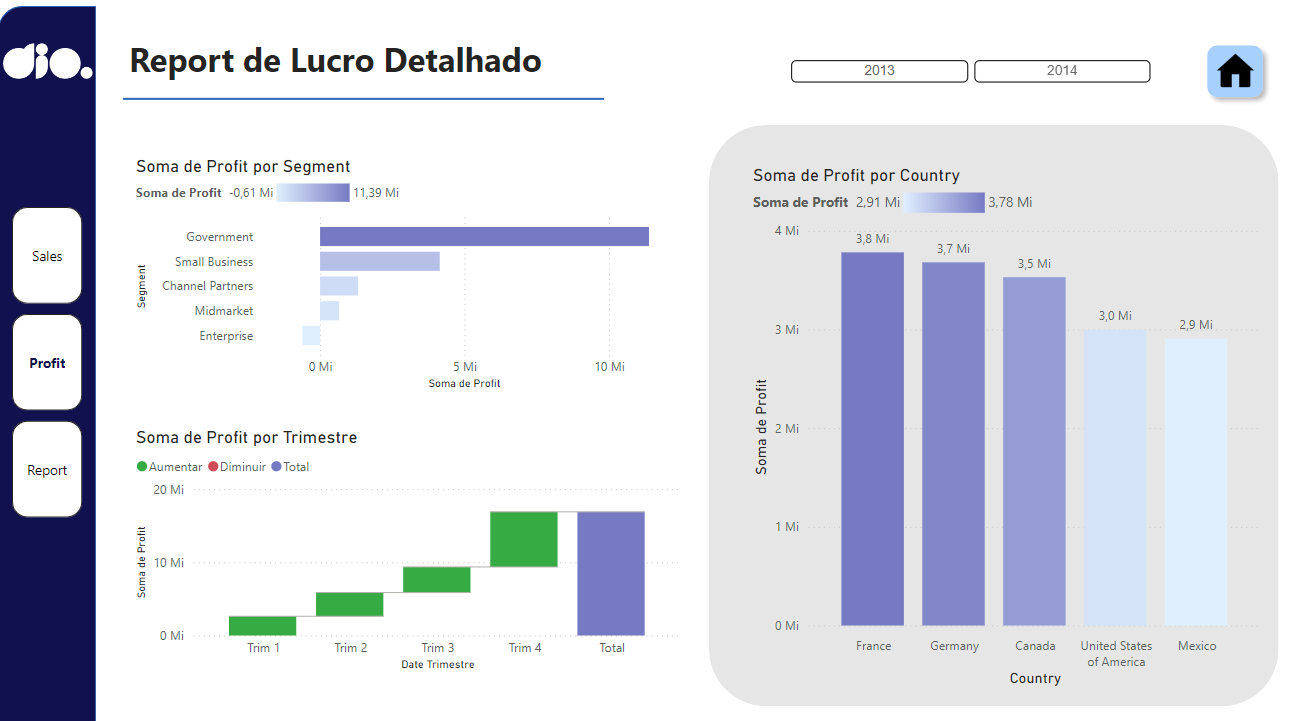

This screenshot's page, from the dashboard's own definition file:
{"tool":"powerbi","page":{"name":"Profit","canvas":[1280,720],"ordinal":1},"visuals":[{"type":"shape","box":[0,13.4,96.4,706.2],"z":0,"group":"g3"},{"type":"actionButton","title":"Home Page","box":[1178.5,43.4,72.7,69.2],"z":0,"group":"g2"},{"type":"shape","box":[123.3,79.5,472.6,50.8],"z":0,"group":"g1"},{"type":"shape","box":[726,141.5,533.4,571.7],"z":500},{"type":"image","title":"logo_dio","box":[0,35.7,98.2,63.2],"z":1000,"group":"g3"},{"type":"textbox","box":[124.7,38.1,469.9,71.5],"z":1000,"group":"g1"},{"type":"textbox","box":[1182.9,58.2,63,42.6],"z":1000,"group":"g2"},{"type":"decompositionTreeVisual","fields":{"Analyze":["Sum(financials.Profit)"],"ExplainBy":["financials.Date.Variation.Hierarquia de datas.Ano","financials.Country"]},"box":[736.8,169.9,509.8,516.7],"z":1000},{"type":"waterfallChart","fields":{"Category":["financials.Date.Variation.Hierarquia de datas.Trimestre"],"Y":["Sum(financials.Profit)"]},"box":[124.8,442.1,546.2,244.6],"z":2000},{"type":"ChicletSlicer1448559807354","fields":{"Category":["financials.Date.Variation.Hierarquia de datas.Ano"]},"box":[174.9,141.5,368.4,40.3],"z":3000},{"type":"treemap","fields":{"Values":["Sum(financials.Profit)"],"Group":["financials.Segment"]},"box":[237.7,192.5,243.6,233.8],"z":4000},{"type":"group","id":"g1","title":"Sales report","box":[123.3,38.1,472.6,92.2],"z":5000},{"type":"actionButton","box":[15.9,622.4,54,96.9],"z":6000},{"type":"group","id":"g2","title":"Botão home","box":[1178.5,43.4,72.7,69.2],"z":7000},{"type":"group","id":"g3","title":"Layout","box":[0,13.4,98.2,706.2],"z":8000},{"type":"image","box":[1188.3,49.7,54.1,55],"z":9000},{"type":"pageNavigator","box":[13.4,211.1,69.9,306.2],"z":10000}]}

Visuals, with their boxes in screenshot pixels (x1, y1, x2, y2), scaled from the page's 1280x720 canvas onto the 1301x721 screenshot:
shape: bbox=(0, 13, 98, 720)
"Home Page" actionButton: bbox=(1198, 43, 1272, 113)
shape: bbox=(125, 80, 606, 130)
shape: bbox=(738, 142, 1280, 714)
"logo_dio" image: bbox=(0, 36, 100, 99)
textbox: bbox=(127, 38, 604, 110)
textbox: bbox=(1202, 58, 1266, 101)
decompositionTreeVisual - Sum(financials.Profit) x financials.Date.Variation.Hierarquia de datas.Ano: bbox=(749, 170, 1267, 688)
waterfallChart - financials.Date.Variation.Hierarquia de datas.Trimestre x Sum(financials.Profit): bbox=(127, 443, 682, 688)
ChicletSlicer1448559807354 - financials.Date.Variation.Hierarquia de datas.Ano: bbox=(178, 142, 552, 182)
treemap - Sum(financials.Profit) x financials.Segment: bbox=(242, 193, 489, 427)
"Sales report" group: bbox=(125, 38, 606, 130)
actionButton: bbox=(16, 623, 71, 720)
"Botão home" group: bbox=(1198, 43, 1272, 113)
"Layout" group: bbox=(0, 13, 100, 720)
image: bbox=(1208, 50, 1263, 105)
pageNavigator: bbox=(14, 211, 85, 518)
